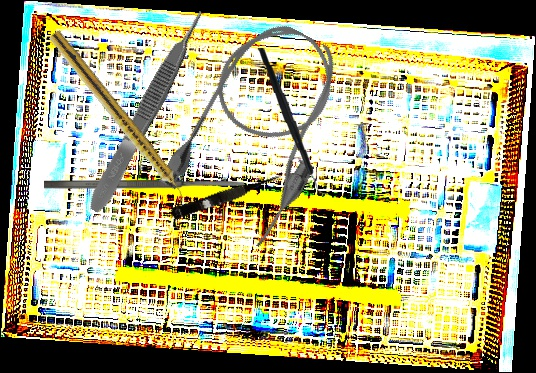Cannula: (153, 6, 368, 253)
Chopper: (256, 45, 332, 198)
Handpiece: (44, 29, 194, 207)
Micro Scissor: (169, 170, 287, 223)
Spatula Surgical: (44, 179, 244, 190)
Tissue Forceps: (83, 7, 213, 216)
